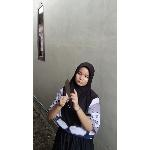Pisau: (61, 74, 75, 110)
